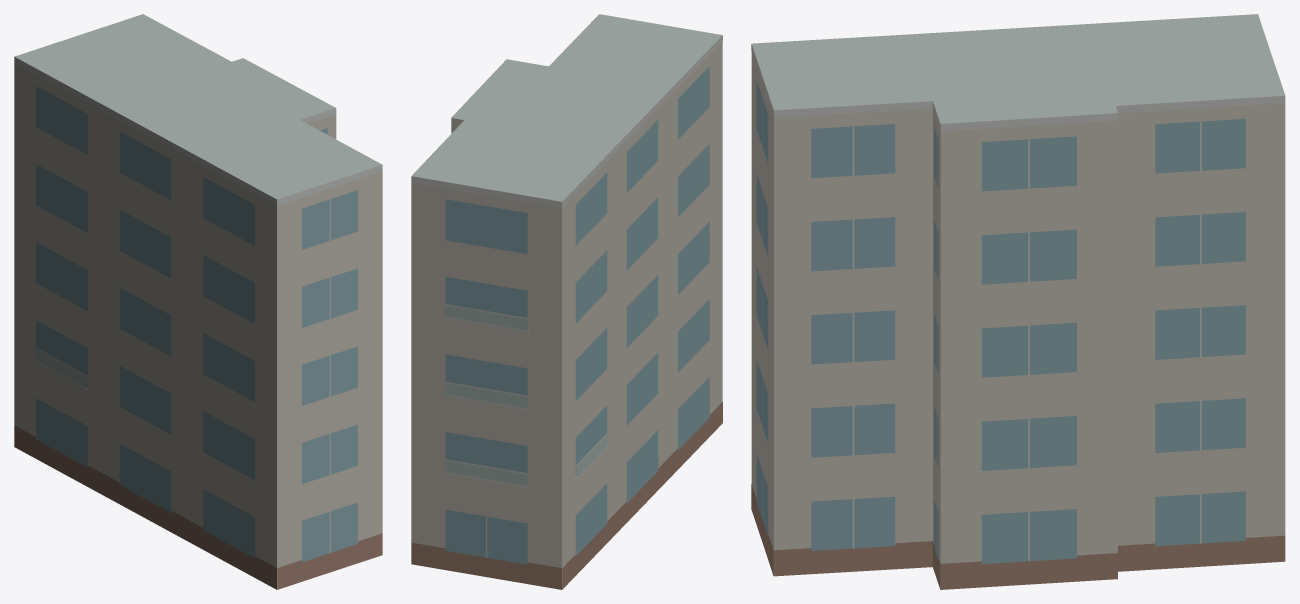
Rendered from survey-upis-32970344.glb.
The picture shows the model from 3 angles, left to right: view 1: azimuth 30°, elevation 25°; view 2: azimuth 150°, elevation 25°; view 3: azimuth 270°, elevation 25°; orthographic projection. The views are drawn at different scales.
Visible parts, largest first — view 1: survey-upis-32970344.tmp; view 2: survey-upis-32970344.tmp; view 3: survey-upis-32970344.tmp.
Part boxes in pixels (x1=…): survey-upis-32970344.tmp: x1=14, y1=14, x2=382, y2=589; survey-upis-32970344.tmp: x1=411, y1=14, x2=722, y2=589; survey-upis-32970344.tmp: x1=751, y1=14, x2=1285, y2=589.
Size of the model in its own units: 7.73 by 15.25 by 15.85.
